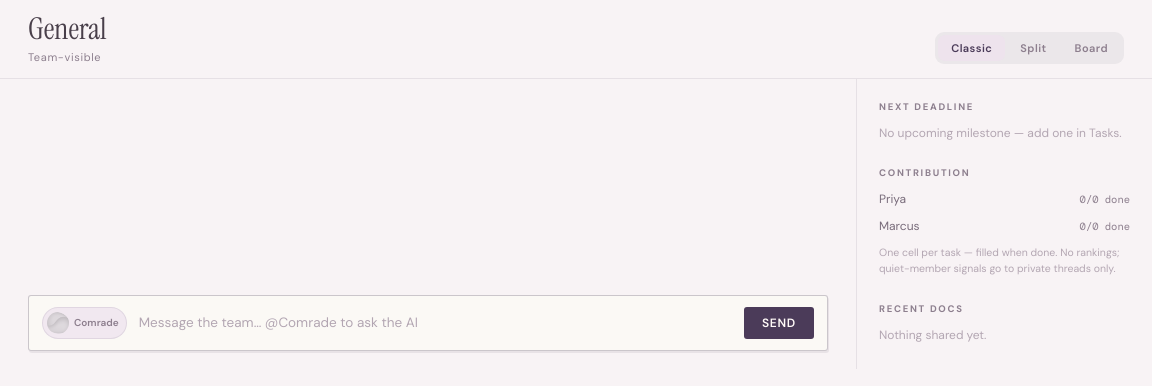
a stream that dies mid-run › a rejected initial fetch is retried the same way
Type "@comrade status?" into the field with placeholder "Message the team… @Comrade to ask the AI".
click(435, 322); type("@comrade status?")  # box left=137, top=306, right=734, bottom=338
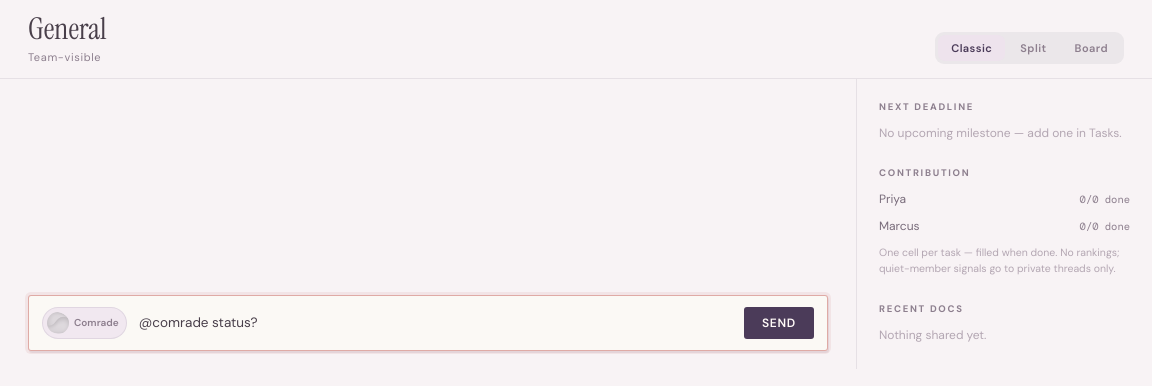
Click the button "SEND".
click(779, 322)  # box left=744, top=306, right=814, bottom=338
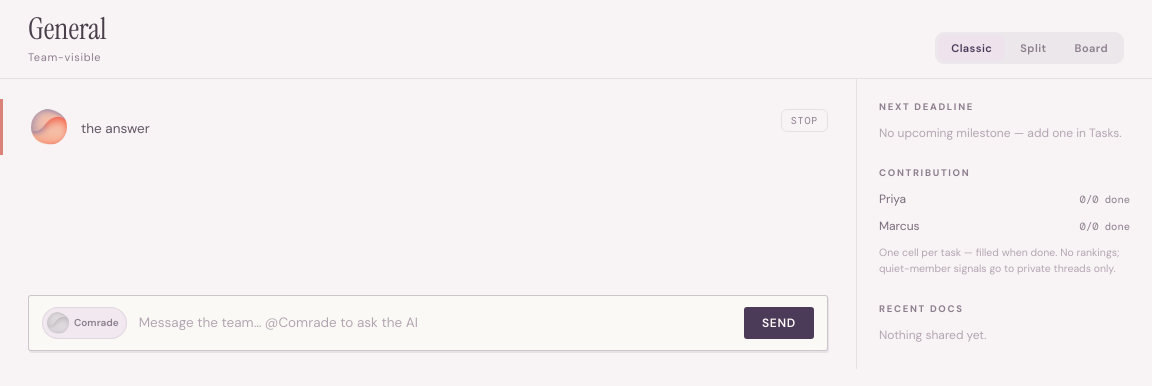
Expected: the text "the answer" is shown, left=81, top=120, right=150, bottom=137
